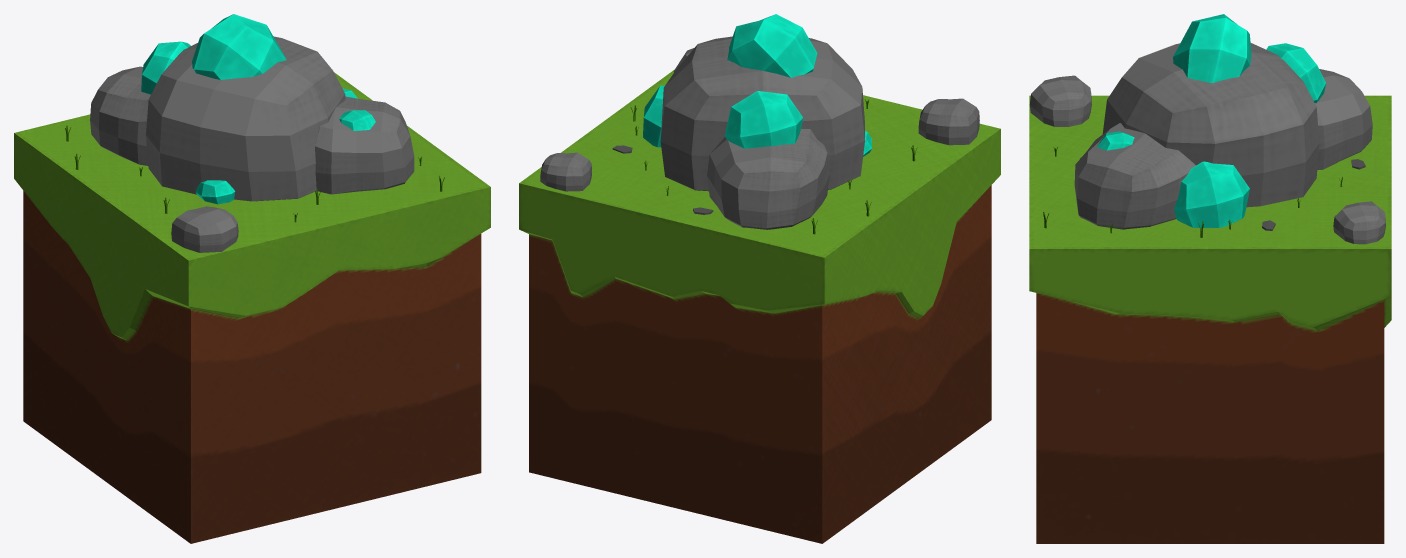
File: Concepts_13.fbx
3 renders of one model, left to right at view 1: azimuth 30°, elevation 25°; view 2: azimuth 150°, elevation 25°; view 3: azimuth 270°, elevation 25°, orthographic. The views are drawn at different scales.
Visible parts, largest first — view 1: Cube.156, Cube.013, Cube.158; view 2: Cube.156, Cube.013, Cube.158, Cube.157; view 3: Cube.156, Cube.013, Cube.158, Cube.157.
Boxes of the visible parts, x1,y1,x2,y2 form: Cube.156: [14, 72, 490, 543]; Cube.013: [90, 36, 414, 252]; Cube.158: [141, 14, 375, 204]; Cube.156: [519, 70, 1000, 543]; Cube.013: [540, 36, 979, 229]; Cube.158: [643, 14, 871, 156]; Cube.157: [612, 99, 917, 234]; Cube.156: [1029, 95, 1391, 543]; Cube.013: [1029, 43, 1385, 244]; Cube.158: [1097, 14, 1325, 227]; Cube.157: [1043, 147, 1365, 237].
Size of the model in its own units: 301 by 410 by 301.
